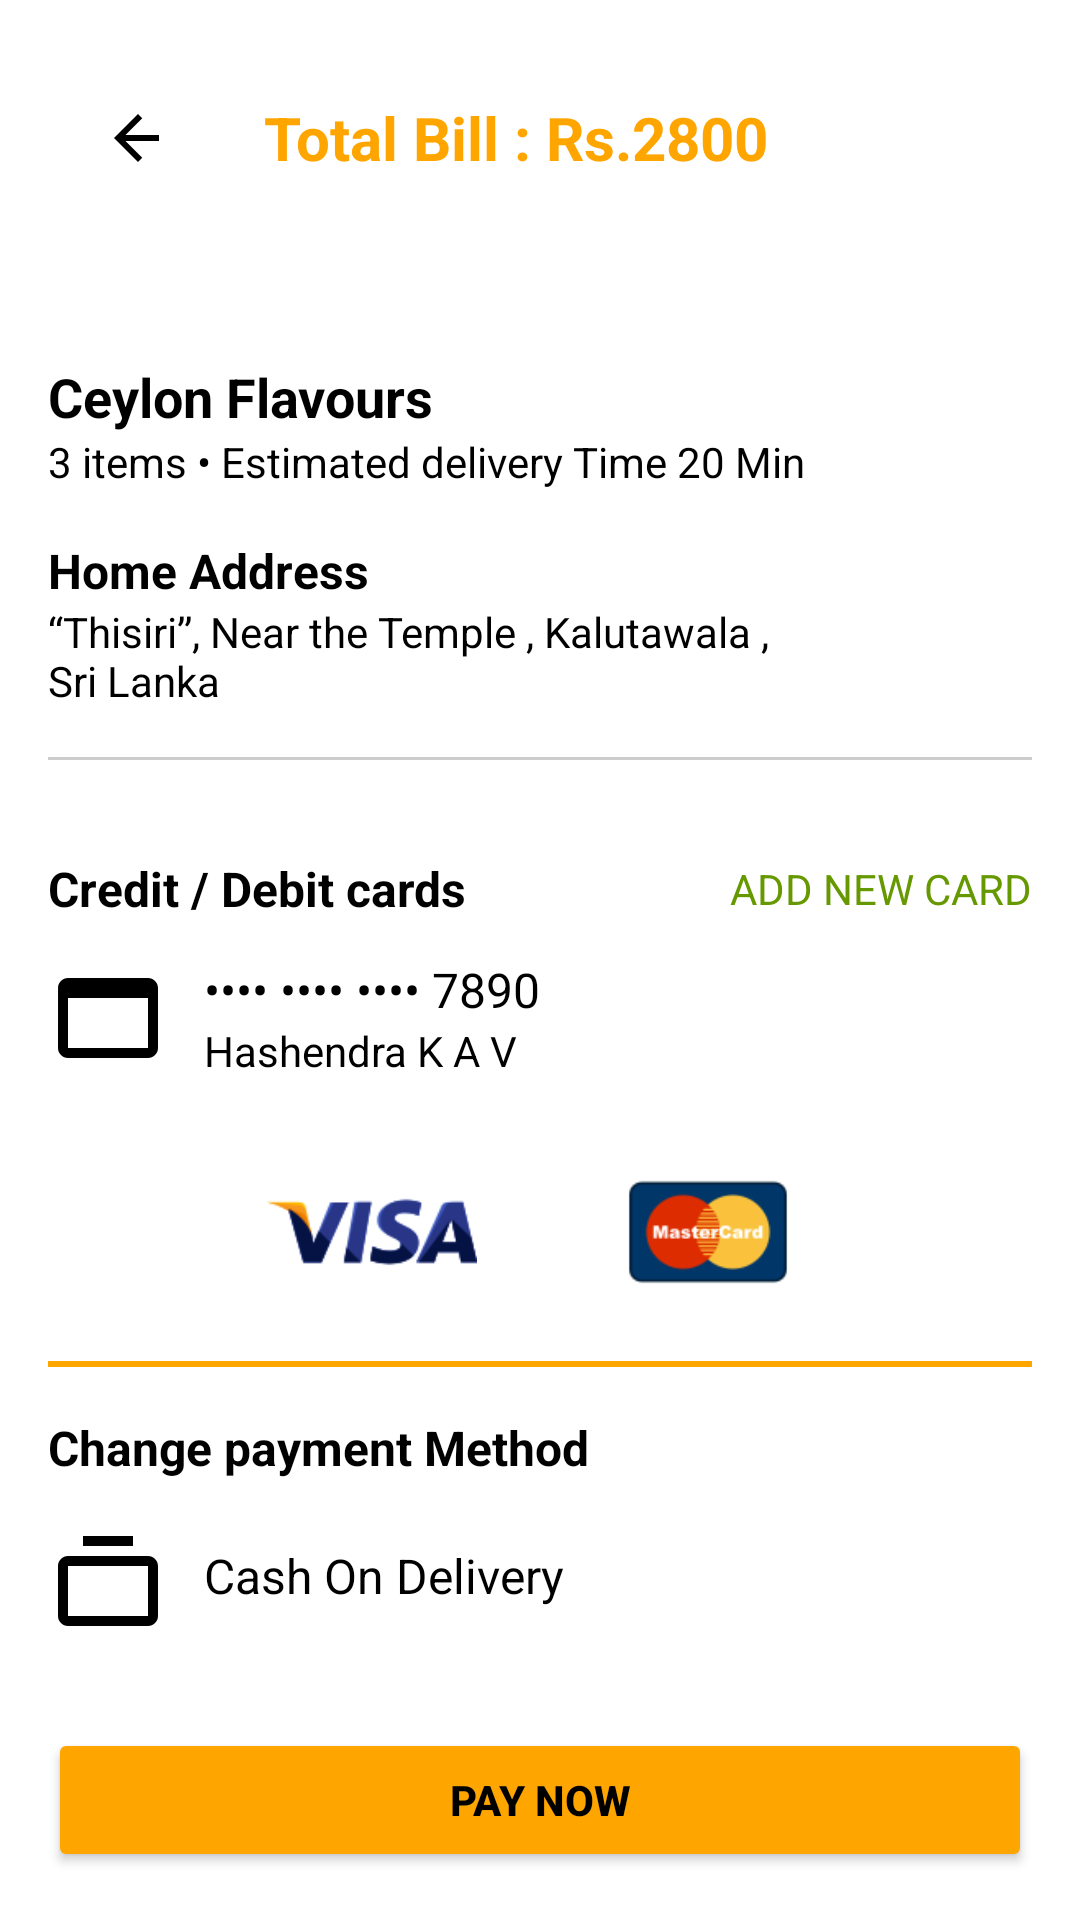

Screen size 1080 × 1920. Icon name, then its center in pixels as (x=x, y=y):
Back: (x=136, y=138)
